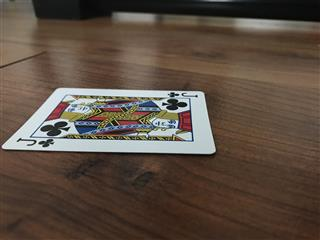JackOfClubs: (1, 86, 216, 154)
